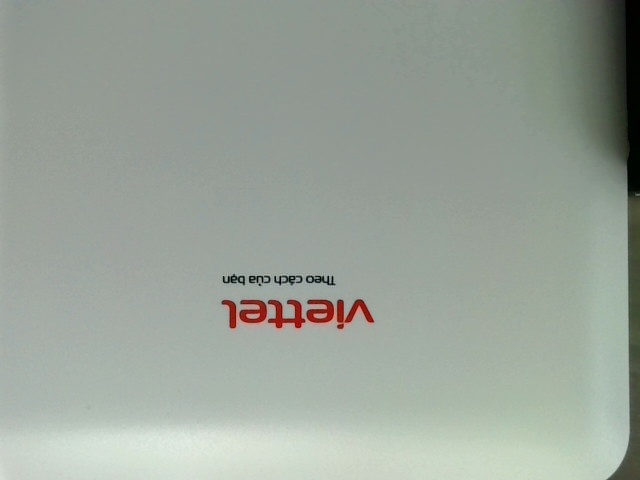AY_Viettel: (214, 266, 382, 328)
